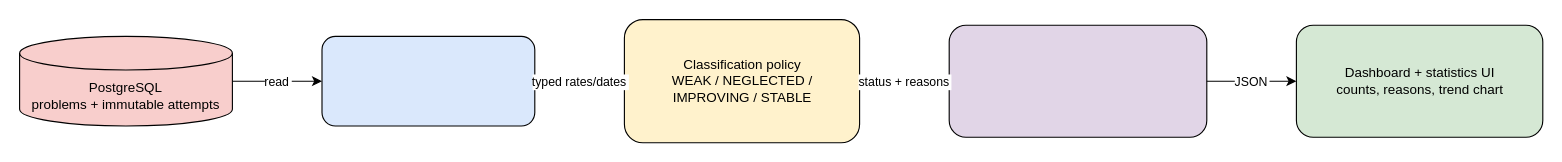
The diagram is 1562 pixels wide and 162 high, and some of its shapes have lost their labels. Here are the shapes that lost their labels. From the top down, the centre of each, then its label:
At pixel 428 80: "StatisticsService read-only aggregates".
At pixel 1077 80: "Statistics API dashboard / topics / trends".
